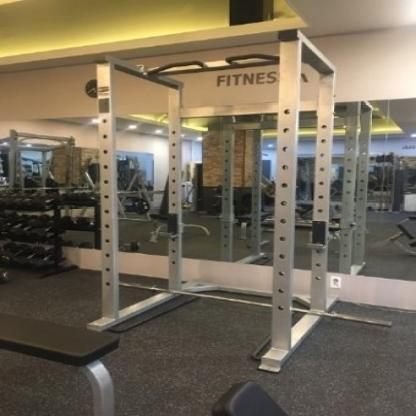smith machine: (93, 29, 341, 375)
